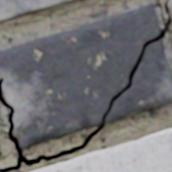brick: (31, 128, 171, 171), (0, 0, 78, 23), (167, 0, 171, 18)
broken_brick: (0, 4, 159, 148), (104, 39, 171, 122)
crack: (0, 0, 171, 171)
